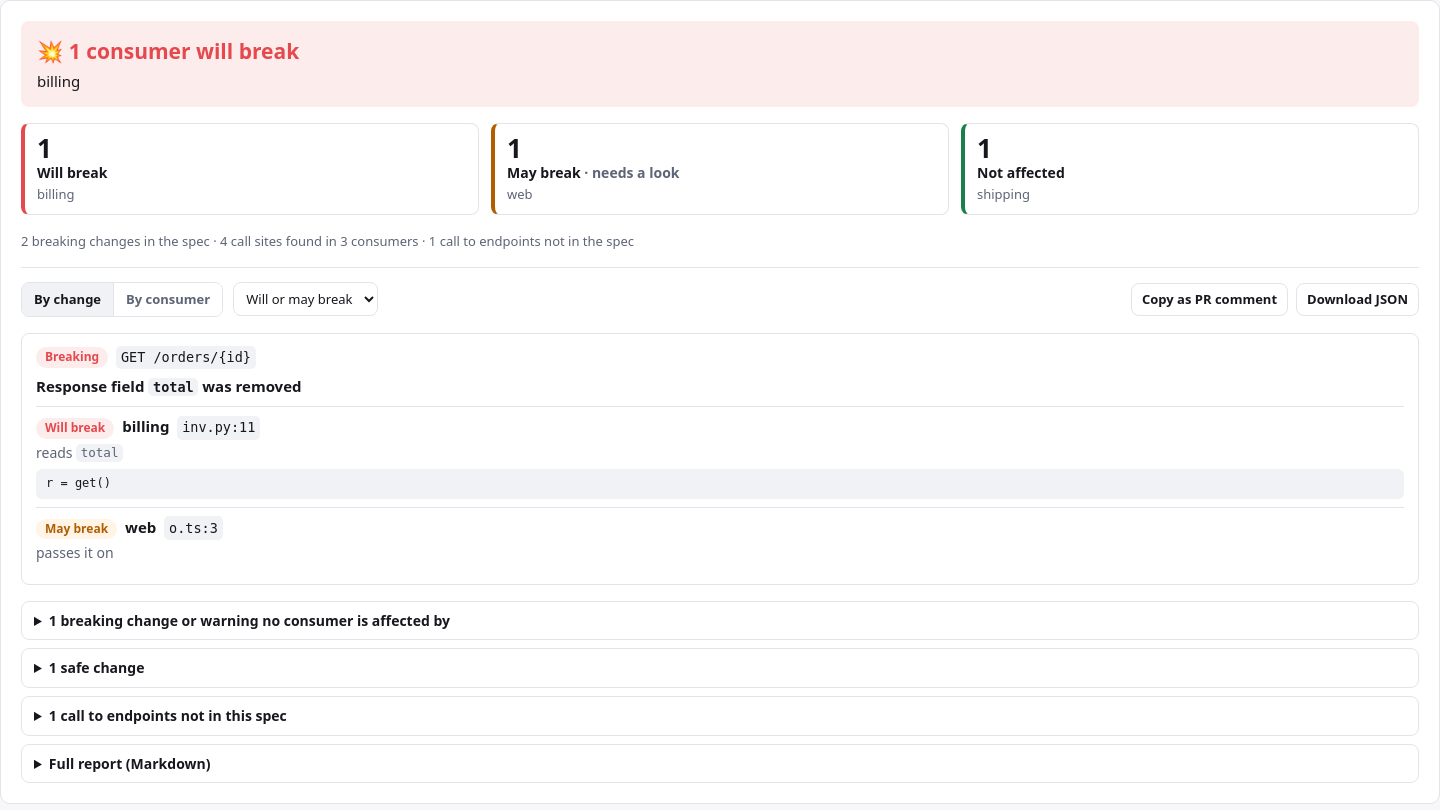
Test: Results › can show only certain breakages
Select "Will break only" in the dropdown named "Show" at coordinates (306, 299), box [233,282,378,316]
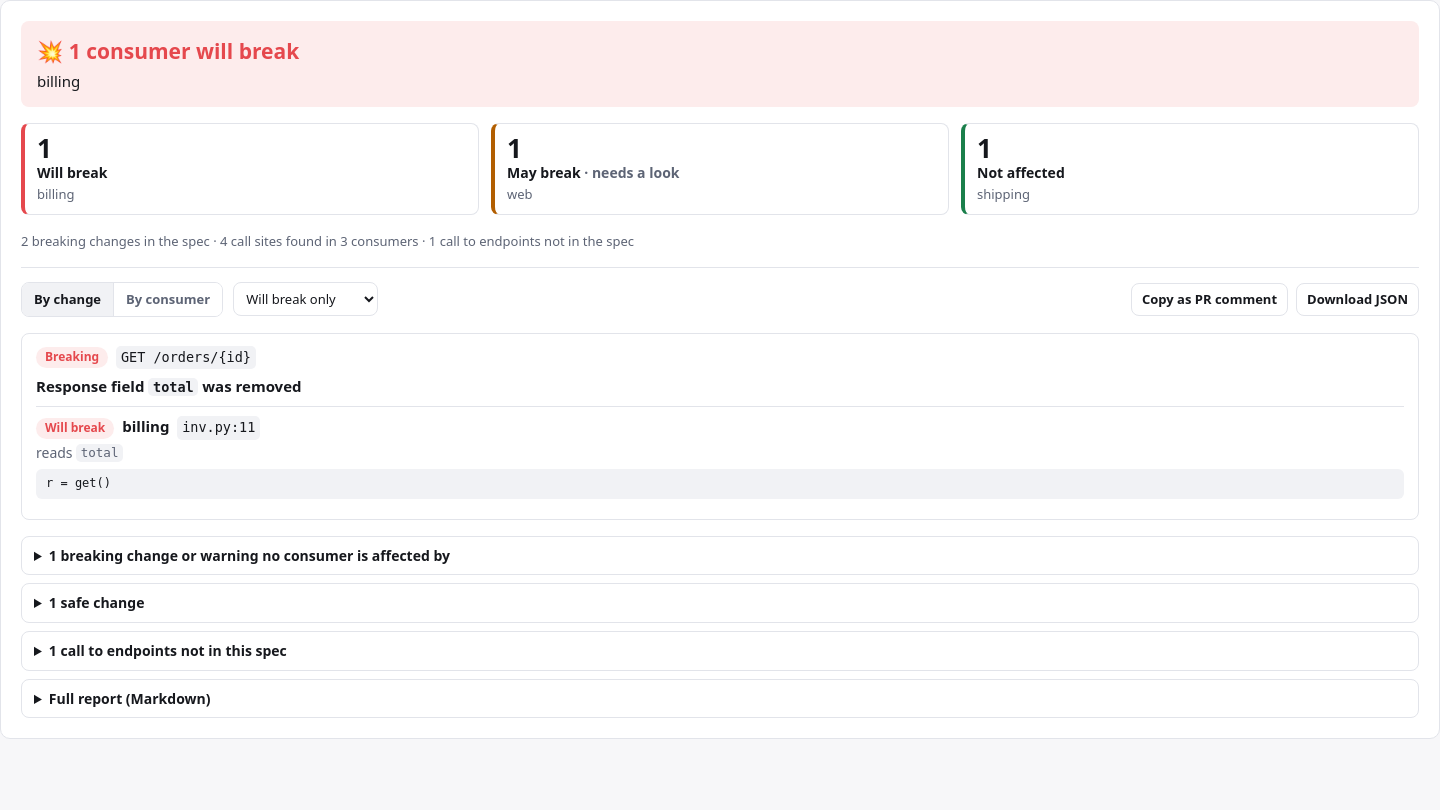
Expected: the text "inv.py:11" is shown, [178,416,260,440]
Expected: the text "o.ts:3" is gone
